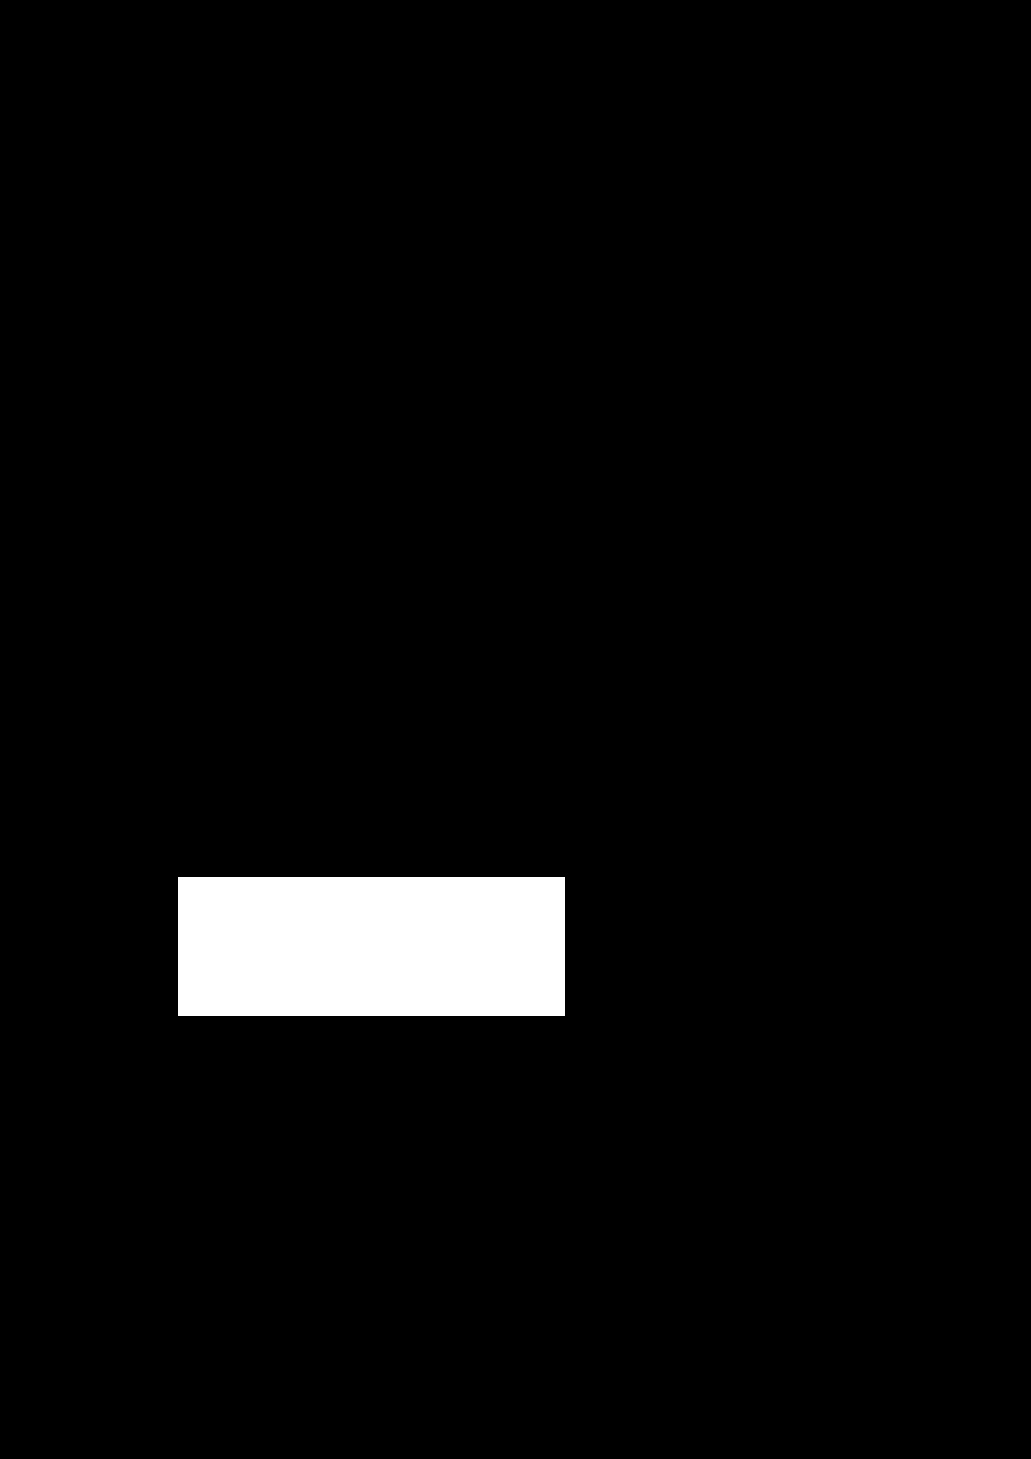table: (179, 877, 563, 1015)
